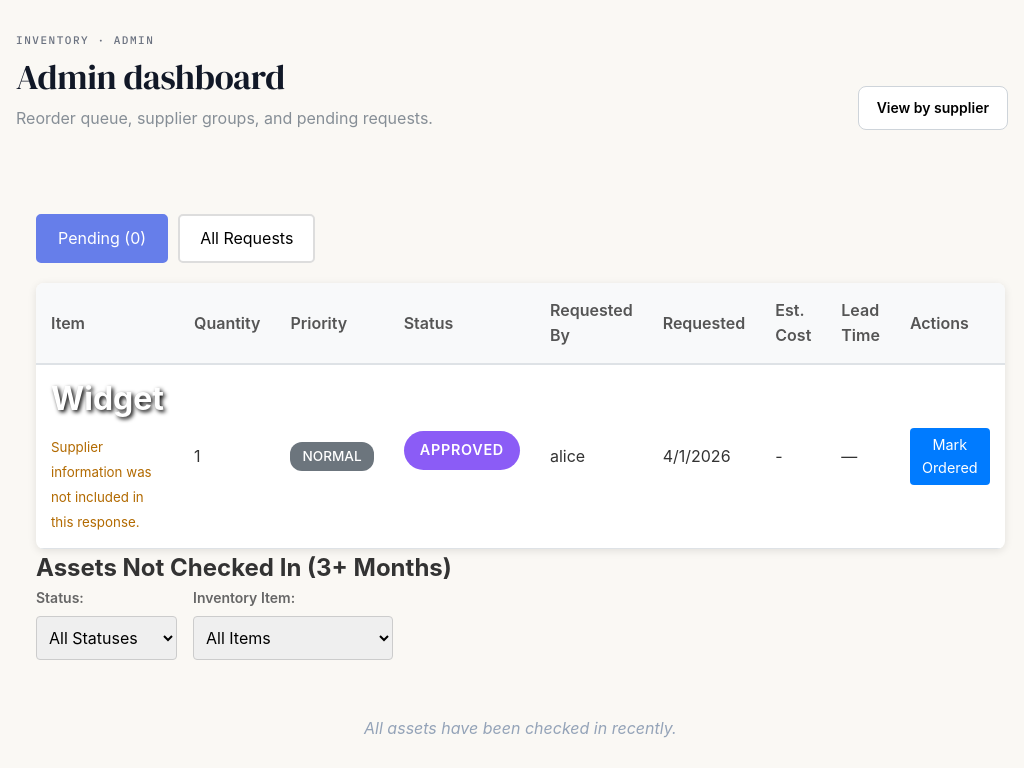
Test: AdminDashboard — mark ordered flow › marks a request ordered in one click, without prompting for an order number
Click the button "Mark Ordered": click(950, 457) [910,428,990,485]
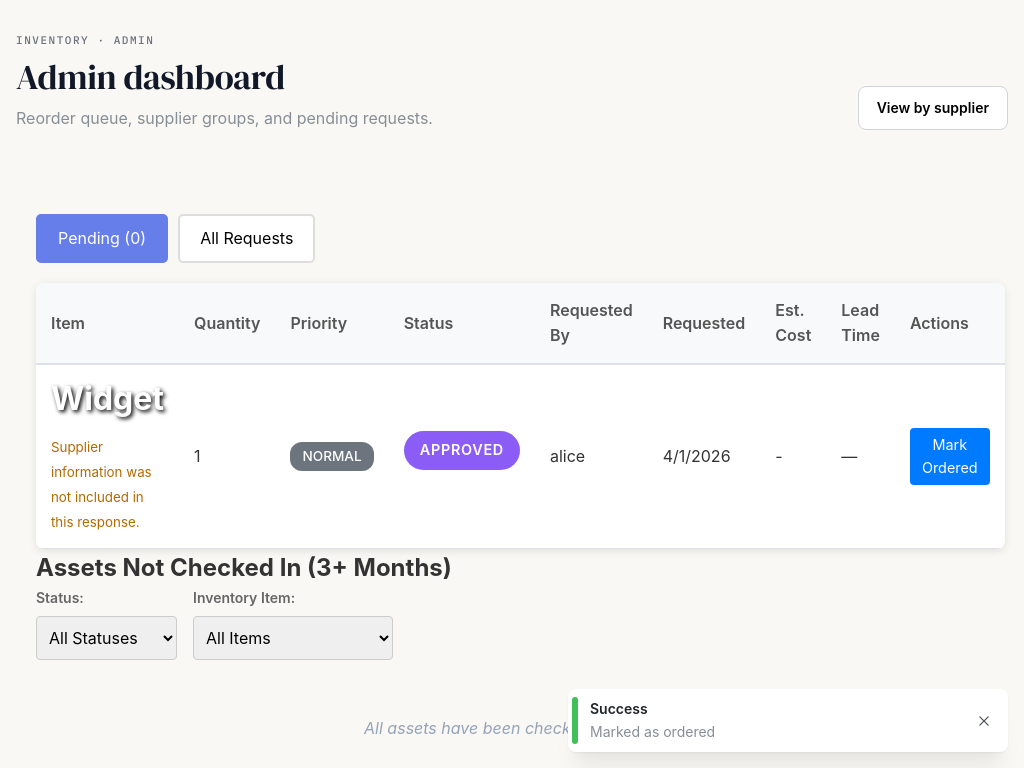
Expected: the text "Marked as ordered" is shown, [590,723,715,740]
